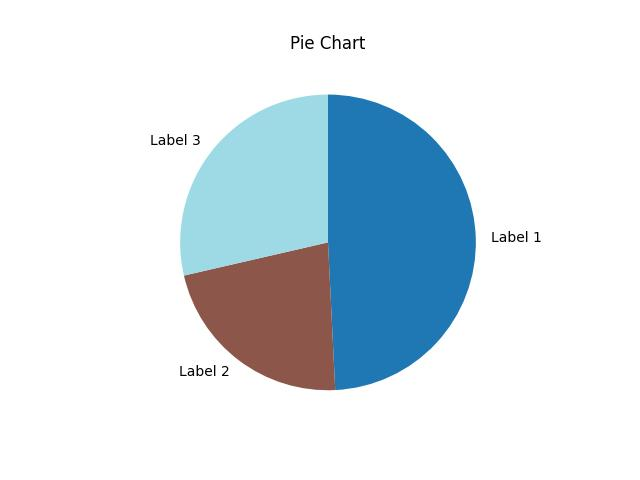sector: (328, 95, 477, 390), (183, 95, 329, 277), (185, 240, 335, 390)
